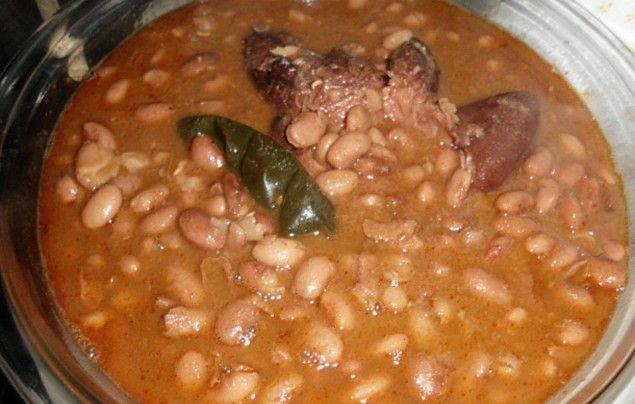RajmaCurry: (37, 0, 628, 404)
